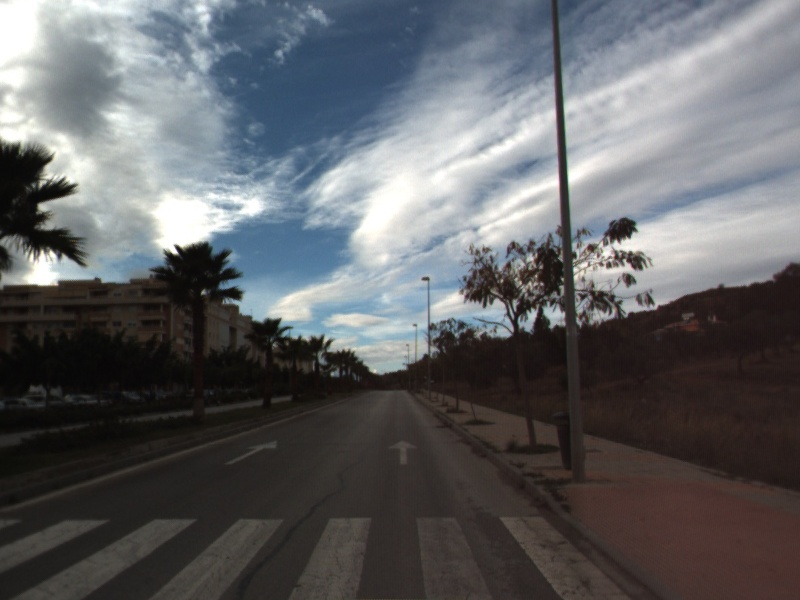STRAIGHT: (222, 438, 279, 467), (387, 437, 420, 467)
